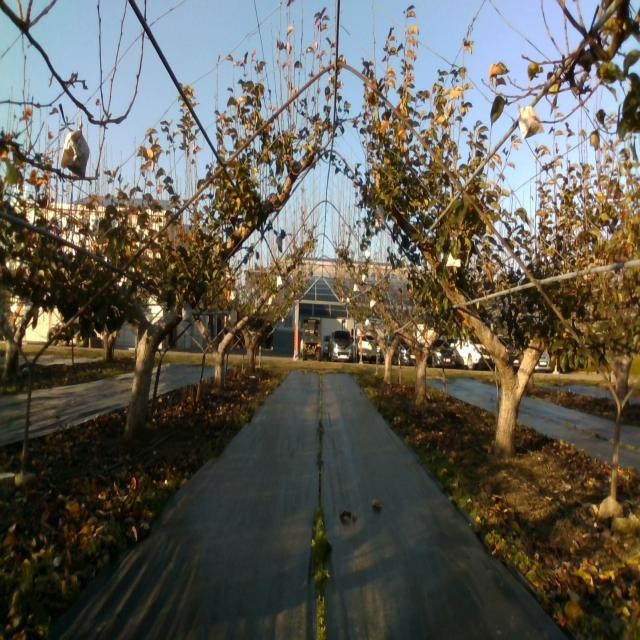pearbags: (61, 121, 90, 178), (517, 101, 545, 140), (182, 302, 194, 324), (374, 205, 386, 226)
